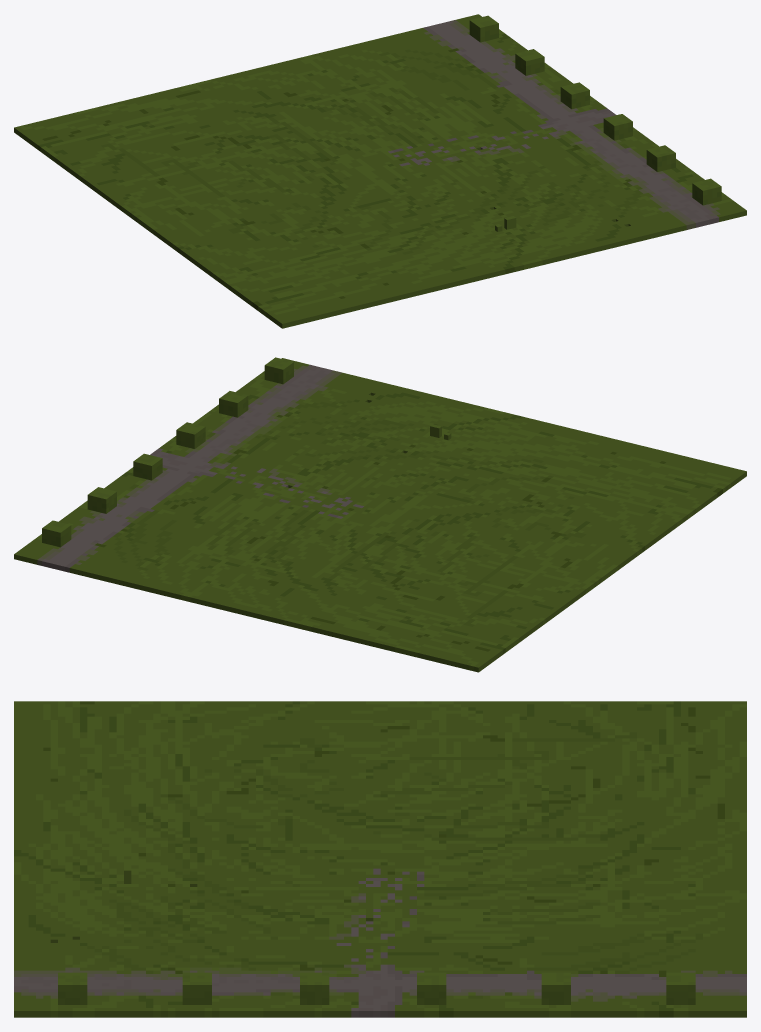
File: Flat.obj
3 renders of one model, top to bottom at view 1: azimuth 30°, elevation 25°; view 2: azimuth 150°, elevation 25°; view 3: azimuth 270°, elevation 25°, orthographic. The views are drawn at different scales.
Size of the model in its own units: 10 by 0.4 by 10.
Materials: 1 (1 with a texture image).
